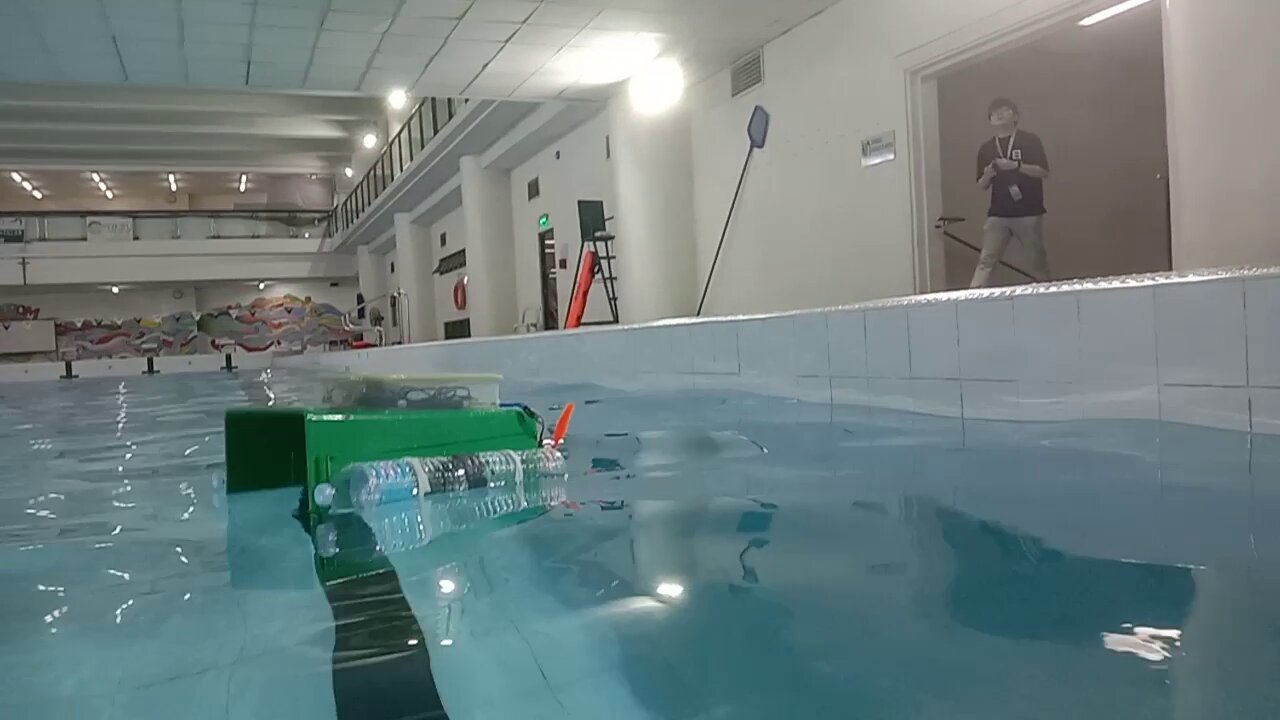drone: (226, 374, 574, 509)
